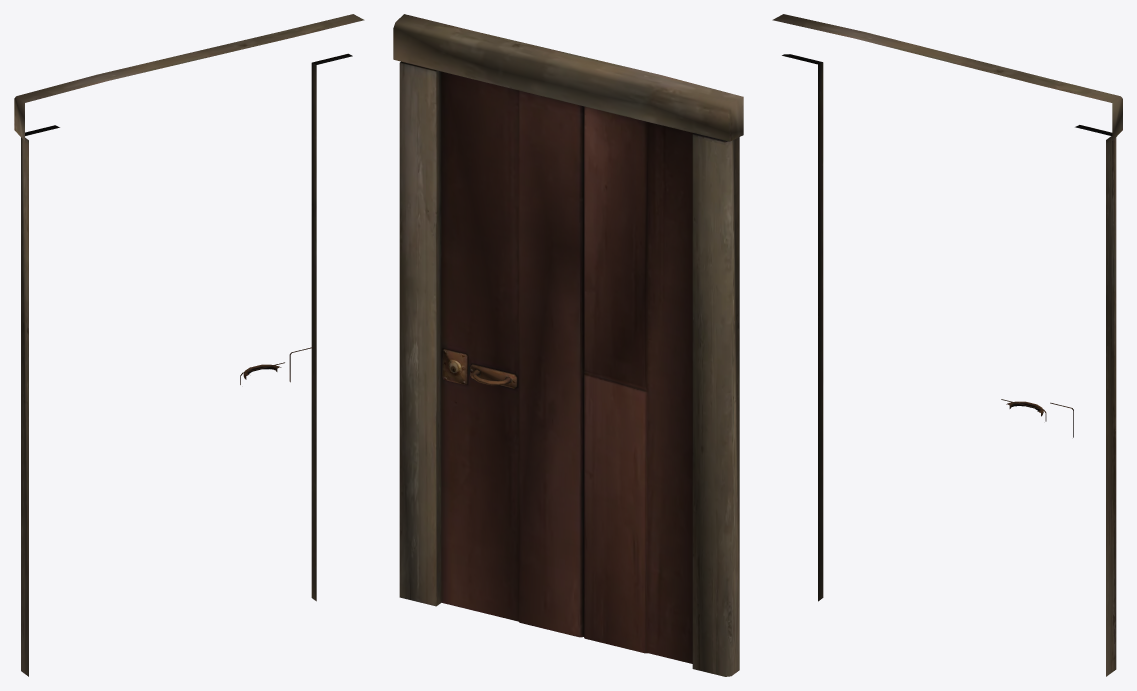
3 renders of one model, left to right at view 1: azimuth 30°, elevation 25°; view 2: azimuth 150°, elevation 25°; view 3: azimuth 330°, elevation 25°, orthographic.
Parts seen in each view (by area): view 1: body0_model0_lod0_mesh0; view 2: body0_model0_lod0_mesh0; view 3: body0_model0_lod0_mesh0.
Boxes of the visible parts, x1=… form: body0_model0_lod0_mesh0: x1=14, y1=14, x2=364, y2=676; body0_model0_lod0_mesh0: x1=393, y1=14, x2=743, y2=676; body0_model0_lod0_mesh0: x1=772, y1=14, x2=1122, y2=676.
Bounding box in the file's own units: 74.22 × 120 × 5.45.
Materials: 1 (1 with a texture image).
